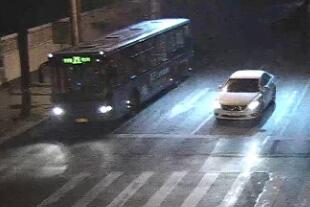bus: (36, 16, 200, 132)
car: (212, 68, 278, 124)
